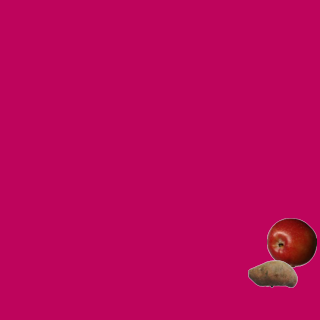Apple Braeburn: (266, 217, 316, 267)
Potato Sweet: (247, 248, 297, 298)
